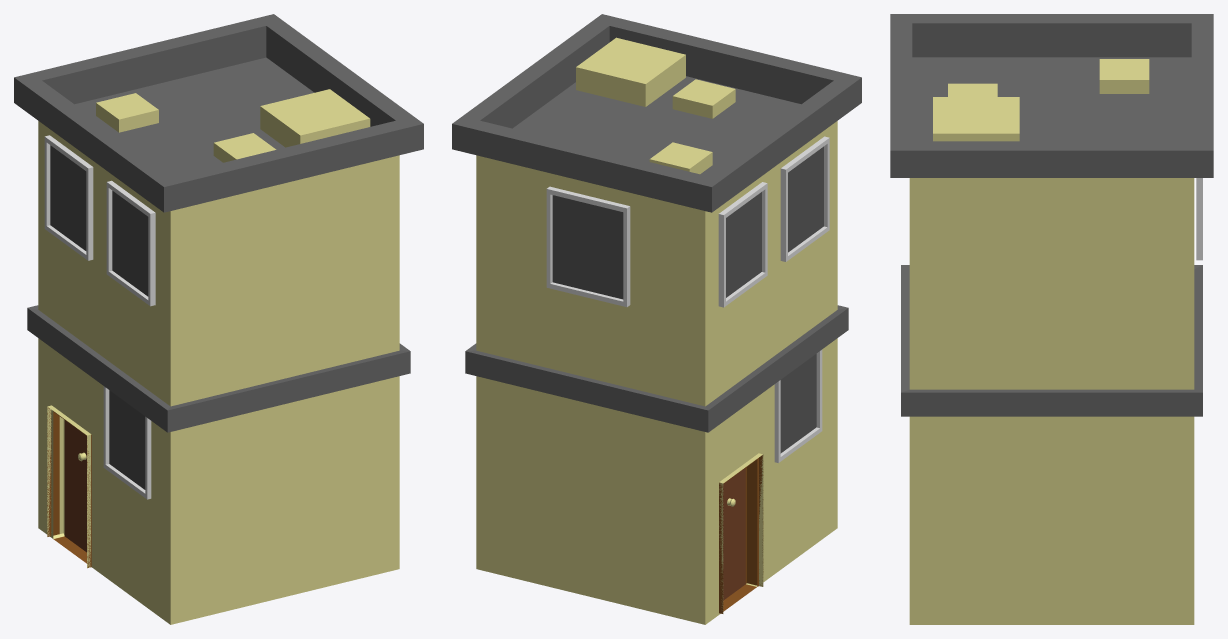
File: building.fbx
3 views of the same model, side by side, from view 1: azimuth 30°, elevation 25°; view 2: azimuth 150°, elevation 25°; view 3: azimuth 270°, elevation 25° (orthographic). The views are drawn at different scales.
Parts seen in each view (by area): view 1: Cube; view 2: Cube; view 3: Cube.
Part boxes in pixels (x1,y1,x2,y2): Cube: (14, 14, 423, 624); Cube: (452, 14, 861, 624); Cube: (890, 14, 1213, 624).
Bounding box in the file's own units: 374 × 616 × 374.
